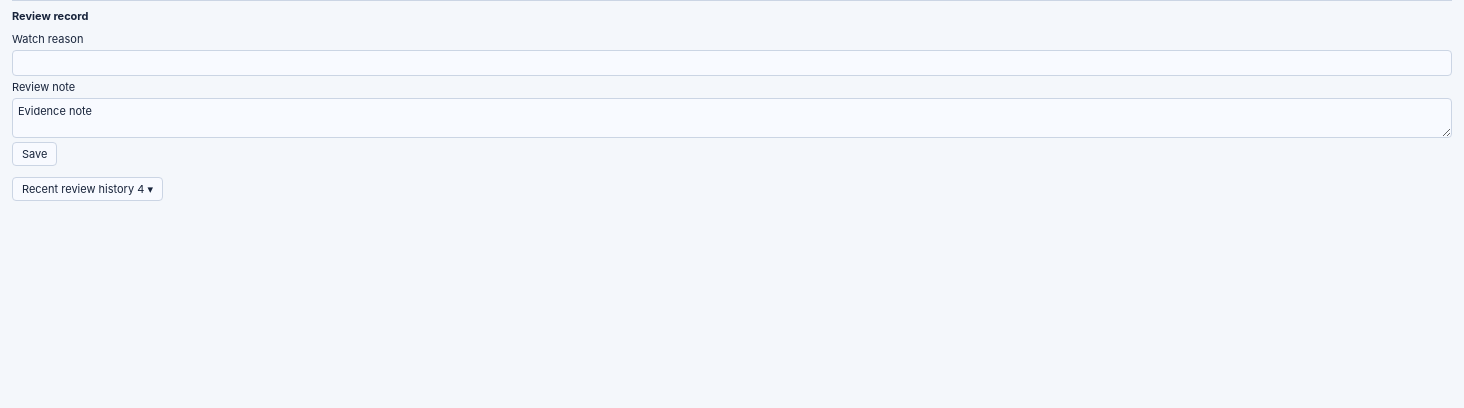
Scenario: ReviewJournal › shows the latest three entries with state, reason, time and note preview
The image size is (1464, 408).
Click the button "Recent review history 4 ▾". click: (87,189)
box: [12,177,163,201]
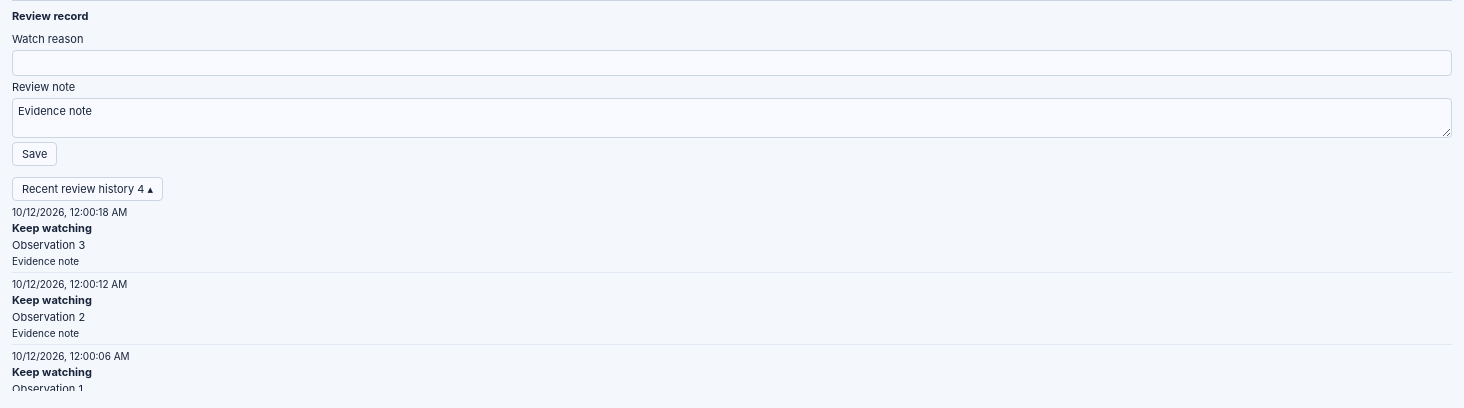
Result: the number of list items is 3 at [12,201,1452,273]; [12,273,1452,345]; [12,345,1452,391]
Result: the text "Keep watching" is shown 3 times at [12,221,92,235]; [12,293,92,307]; [12,365,92,379]
Result: the text "Evidence note" is shown 3 times
